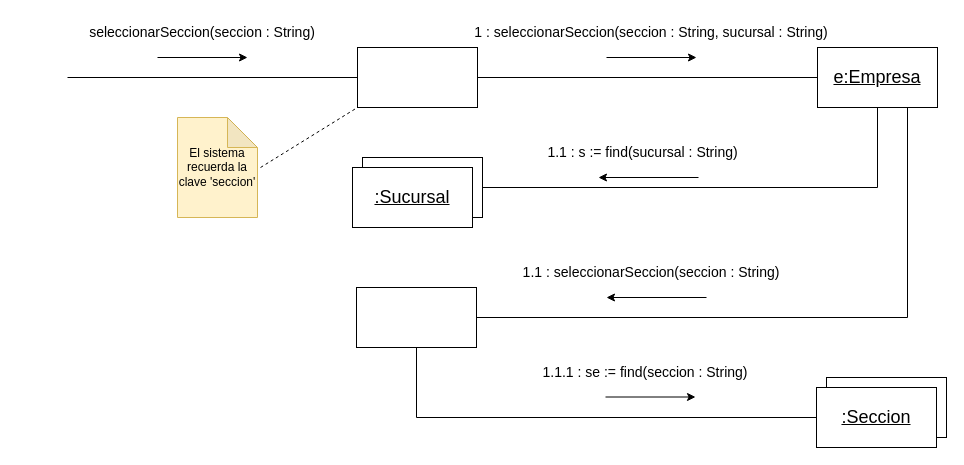
Some shapes in this 964 by 465 pixel diagram are drawn without their labels. The box of each missing label's shape, as (x1, y1, x2, y2) in pixels:
:Sistema: (356, 46, 478, 108)
s:Sucursal: (356, 286, 476, 348)
